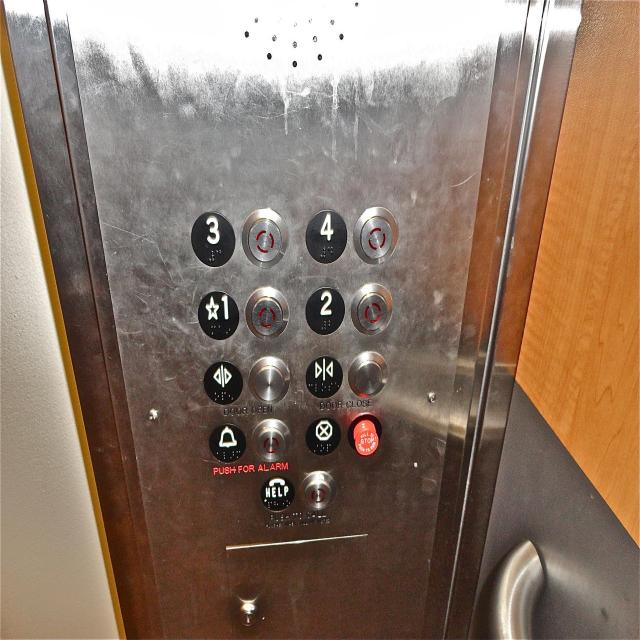2: (306, 284, 346, 336)
3: (190, 209, 237, 266)
4: (304, 208, 347, 265)
alarm: (208, 421, 248, 463)
call: (259, 475, 295, 512)
close: (304, 353, 345, 398)
empty: (240, 208, 288, 268), (353, 206, 400, 267), (242, 282, 290, 339), (348, 280, 392, 336), (247, 354, 293, 406), (252, 416, 292, 467), (348, 350, 390, 398), (298, 470, 339, 512)
keyhole: (237, 602, 258, 626)
open: (204, 359, 244, 406)
s1: (196, 288, 240, 342)
stop: (304, 416, 342, 454)
text_stop: (349, 413, 384, 459)
